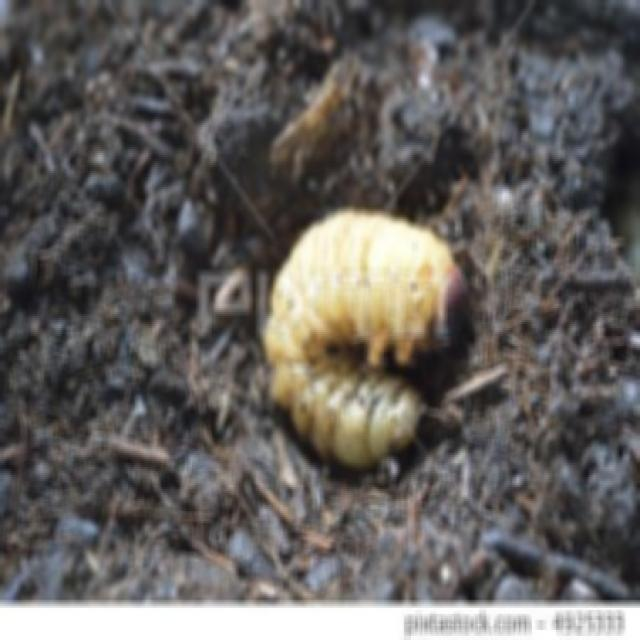grub: (261, 208, 472, 478)
